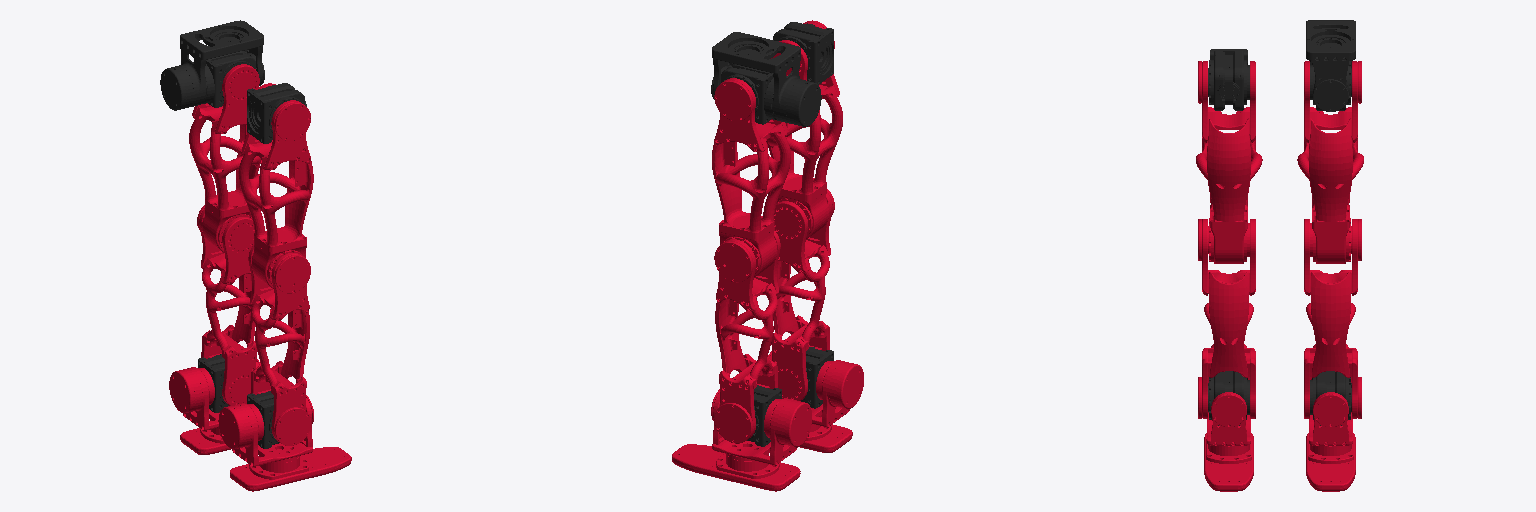
The robot description file, URDF, robot "red_robot":
<robot name="red_robot">
    <mujoco>
        <compiler meshdir="../meshes" balanceinertia="true"/>
    </mujoco>
  <link name="world"/>
  <link name="Pelvis_link">
    <inertial>
      <origin
        xyz="0.0119 0.0 0.328"
        rpy="0 0 0" />
      <mass
        value="52.5" />
      <inertia
        ixx="0.794"
        ixy="0.0"
        ixz="0.0"
        iyy="0.5657"
        iyz="0.0"
        izz="0.5955" />
    </inertial>
    <visual>
      <origin
        xyz="0 0 0"
        rpy="0 0 0" />
      <geometry>
        <mesh
          filename="package://dyros_red_lowerbody_description/meshes/Pelvis_link.stl" />
      </geometry>
      <material
        name="">
        <color
          rgba="0.20313 0.20313 0.20313 1" />
      </material>
    </visual>
    <collision>
      <origin
        xyz="0 0 0"
        rpy="0 0 0" />
      <geometry>
        <mesh
          filename="package://dyros_red_lowerbody_description/meshes/Pelvis_link.stl" />
      </geometry>
    </collision>
  </link>
    <joint name="virtual" type="floating"> 
        <parent link="world"/>
        <child link="Pelvis_link"/>    
</joint>
  <link
    name="HipRoll_L_Link">
    <inertial>
      <origin
        xyz="-0.06477 0 0.05149"
        rpy="0 0 0" />
      <mass
        value="2.679" />
      <inertia
        ixx="0.01821"
        ixy="-1.676E-07"
        ixz="-0.0007745"
        iyy="0.03121"
        iyz="-4.53E-09"
        izz="0.2928" />
    </inertial>
    <visual>
      <origin
        xyz="0 0 0"
        rpy="0 0 0" />
      <geometry>
        <mesh
          filename="package://dyros_red_lowerbody_description/meshes/HipRoll_L_Link.stl" />
      </geometry>
      <material
        name="">
        <color
          rgba="0.20313 0.20313 0.20313 1" />
      </material>
    </visual>
    <collision>
      <origin
        xyz="0 0 0"
        rpy="0 0 0" />
      <geometry>
        <mesh
          filename="package://dyros_red_lowerbody_description/meshes/HipRoll_L_Link.stl" />
      </geometry>
    </collision>
  </link>
  <joint
    name="HipRoll_L_Joint"
    type="revolute">
    <origin
      xyz="0 0.1025 -0.1225"
      rpy="0 0 0" />
    <parent
      link="Pelvis_link" />
    <child
      link="HipRoll_L_Link" />
    <axis
      xyz="0 0 1" />
    <limit effort="50" lower="-0.2618" upper="0.2618" velocity="1.045"/>
    <dynamics
      damping="10" />
  </joint>
  <link
    name="HipCenter_L_Link">
    <inertial>
      <origin
        xyz="-0.04801 0.0022 2E-05"
        rpy="0 0 0" />
      <mass
        value="2.67" />
      <inertia
        ixx="0.3553"
        ixy="1.725E-08"
        ixz="-3.236E-06"
        iyy="0.009161"
        iyz="-4.778E-06"
        izz="0.00876" />
    </inertial>
    <visual>
      <origin
        xyz="0 0 0"
        rpy="0 0 0" />
      <geometry>
        <mesh
          filename="package://dyros_red_lowerbody_description/meshes/HipCenter_L_Link.stl" />
      </geometry>
      <material
        name="">
        <color
          rgba="0.20313 0.20313 0.20313 1" />
      </material>
    </visual>
    <collision>
      <origin
        xyz="0 0 0"
        rpy="0 0 0" />
      <geometry>
        <mesh
          filename="package://dyros_red_lowerbody_description/meshes/HipCenter_L_Link.stl" />
      </geometry>
    </collision>

  </link>
  <joint
    name="HipCenter_L_Joint"
    type="revolute">
    <origin
      xyz="0 0 0"
      rpy="0 0 0" />
    <parent
      link="HipRoll_L_Link" />
    <child
      link="HipCenter_L_Link" />
    <axis
      xyz="1 0 0" />
    <limit effort="100" lower="-0.2618" upper="0.5236" velocity="2.09"/>
    <dynamics
      damping="10" />
  </joint>
  <link
    name="Thigh_L_Link">
    <inertial>
      <origin
        xyz="-0.00042 0.00032 -0.18904"
        rpy="0 0 0" />
      <mass
        value="5.366" />
      <inertia
        ixx="0.2987"
        ixy="-4.284E-05"
        ixz="-0.000196"
        iyy="0.7088"
        iyz="0.002406"
        izz="0.00982" />
    </inertial>
    <visual>
      <origin
        xyz="0 0 0"
        rpy="0 0 0" />
      <geometry>
        <mesh
          filename="package://dyros_red_lowerbody_description/meshes/Thigh_L_Link.stl" />
      </geometry>
      <material
        name="">
        <color
          rgba="0.85938 0.07813 0.23438 1" />
      </material>
    </visual>
    <collision>
      <origin
        xyz="0 0 0"
        rpy="0 0 0" />
      <geometry>
        <mesh
          filename="package://dyros_red_lowerbody_description/meshes/Thigh_L_Link.stl" />
      </geometry>
    </collision>
  </link>
  <joint
    name="Thigh_L_Joint"
    type="revolute">
    <origin
      xyz="0 0 0"
      rpy="0 0 0" />
    <parent
      link="HipCenter_L_Link" />
    <child
      link="Thigh_L_Link" />
    <axis
      xyz="0 1 0" />
    <limit effort="200" lower="-1.6581" upper="0.4014" velocity="2.09"/>
    <dynamics
      damping="10" />
  </joint>
  <link
    name="Knee_L_Link">
    <inertial>
      <origin
        xyz="0.00429 -0.00214 -0.1428"
        rpy="0 0 0" />
      <mass
        value="3.883" />
      <inertia
        ixx="0.1506"
        ixy="-2.887E-05"
        ixz="-0.002607"
        iyy="0.5588"
        iyz="-0.001486"
        izz="0.007451" />
    </inertial>
    <visual>
      <origin
        xyz="0 0 0"
        rpy="0 0 0" />
      <geometry>
        <mesh
          filename="package://dyros_red_lowerbody_description/meshes/Knee_L_Link.stl" />
      </geometry>
      <material
        name="">
        <color
          rgba="0.85938 0.07813 0.23438 1" />
      </material>
    </visual>
    <collision>
      <origin
        xyz="0 0 0"
        rpy="0 0 0" />
      <geometry>
        <mesh
          filename="package://dyros_red_lowerbody_description/meshes/Knee_L_Link.stl" />
      </geometry>
    </collision>
  </link>
  <joint
    name="Knee_L_Joint"
    type="revolute">
    <origin
      xyz="0 0 -0.35"
      rpy="0 0 0" />
    <parent
      link="Thigh_L_Link" />
    <child
      link="Knee_L_Link" />
    <axis
      xyz="0 1 0" />
    <limit effort="200" lower="-0.0218" upper="1.9722" velocity="6.0"/>
    <dynamics
      damping="10" />
  </joint>
  <link
    name="AnkleCenter_L_Link">
    <inertial>
      <origin
        xyz="-0.00419 0.0018 -0.0003"
        rpy="0 0 0" />
      <mass
        value="2.51" />
      <inertia
        ixx="0.002857"
        ixy="-1.422E-07"
        ixz="2.222E-06"
        iyy="0.4135"
        iyz="4.611E-06"
        izz="0.003345" />
    </inertial>
    <visual>
      <origin
        xyz="0 0 0"
        rpy="0 0 0" />
      <geometry>
        <mesh
          filename="package://dyros_red_lowerbody_description/meshes/AnkleCenter_L_Link.stl" />
      </geometry>
      <material
        name="">
        <color
          rgba="0.20313 0.20313 0.20313 1" />
      </material>
    </visual>
    <collision>
      <origin
        xyz="0 0 0"
        rpy="0 0 0" />
      <geometry>
        <mesh
          filename="package://dyros_red_lowerbody_description/meshes/AnkleCenter_L_Link.stl" />
      </geometry>
    </collision>
  </link>
  <joint
    name="AnkleCenter_L_Joint"
    type="revolute">
    <origin
      xyz="0 0 -0.35"
      rpy="0 0 0" />
    <parent
      link="Knee_L_Link" />
    <child
      link="AnkleCenter_L_Link" />
    <axis
      xyz="0 1 0" />
    <limit effort="200" lower="-1.5149" upper="1.7505" velocity="2.1"/>
    <dynamics
      damping="10" />
  </joint>
  <link
    name="AnkleRoll_L_Link">
    <inertial>
      <origin
        xyz="-0.00802 0 -0.08535"
        rpy="0 0 0" />
      <mass
        value="3.464" />
      <inertia
        ixx="0.1466"
        ixy="1.434E-05"
        ixz="-0.004731"
        iyy="0.05808"
        iyz="-2.508E-05"
        izz="0.0238" />
    </inertial>
    <visual>
      <origin
        xyz="0 0 0"
        rpy="0 0 0" />
      <geometry>
        <mesh
          filename="package://dyros_red_lowerbody_description/meshes/AnkleRoll_L_Link.stl" />
      </geometry>
      <material
        name="">
        <color
          rgba="0.85938 0.07813 0.23438 1" />
      </material>
    </visual>
    <collision>
      <origin
        xyz="0 0 0"
        rpy="0 0 0" />
      <geometry>
        <mesh filename="package://dyros_red_lowerbody_description/meshes/AnkleRoll_L_Link.stl"/>
      </geometry>
    </collision>
  </link>
  <joint
    name="AnkleRoll_L_Joint"
    type="revolute">
    <origin
      xyz="0 0 0"
      rpy="0 0 0" />
    <parent
      link="AnkleCenter_L_Link" />
    <child
      link="AnkleRoll_L_Link" />
    <axis
      xyz="1 0 0" />
    <limit effort="200" lower="-0.3491" upper="0.3491" velocity="2.1"/>
    <dynamics
      damping="10" />
  </joint>
  <joint name="LLeg_effector_fixedjoint" type="fixed">
    <parent link="AnkleRoll_L_Link"/>
    <child link="l_sole"/>
    <origin rpy="0 0 0" xyz="0 0 -0.1451"/>
    <axis xyz="0 0 0"/>
  </joint>
  <link name="l_sole"/>
  <link
    name="HipRoll_R_link">
    <inertial>
      <origin
        xyz="-0.06477 0 0.05149"
        rpy="0 0 0" />
      <mass
        value="2.679" />
      <inertia
        ixx="0.01821"
        ixy="-1.676E-07"
        ixz="-0.0007745"
        iyy="0.03121"
        iyz="-4.53E-09"
        izz="0.2928" />
    </inertial>
    <visual>
      <origin
        xyz="0 0 0"
        rpy="0 0 0" />
      <geometry>
        <mesh
          filename="package://dyros_red_lowerbody_description/meshes/HipRoll_R_link.stl" />
      </geometry>
      <material
        name="">
        <color
          rgba="0.20313 0.20313 0.20313 1" />
      </material>
    </visual>
    <collision>
      <origin
        xyz="0 0 0"
        rpy="0 0 0" />
      <geometry>
        <mesh
          filename="package://dyros_red_lowerbody_description/meshes/HipRoll_R_link.stl" />
      </geometry>
    </collision>
  </link>
  <joint
    name="HipRoll_R_Joint"
    type="revolute">
    <origin
      xyz="0 -0.1025 -0.1225"
      rpy="0 0 0" />
    <parent
      link="Pelvis_link" />
    <child
      link="HipRoll_R_link" />
    <axis
      xyz="0 0 1" />
    <limit effort="50.0" lower="-0.2618" upper="0.2618" velocity="1.045"/>
    <dynamics
      damping="10" />
  </joint>
  <link
    name="HipCenter_R_Link">
    <inertial>
      <origin
        xyz="-0.04801 -0.0022 2E-05"
        rpy="0 0 0" />
      <mass
        value="2.67" />
      <inertia
        ixx="0.3553"
        ixy="1.725E-08"
        ixz="-3.236E-06"
        iyy="0.009161"
        iyz="-4.778E-06"
        izz="0.00876" />
    </inertial>
    <visual>
      <origin
        xyz="0 0 0"
        rpy="0 0 0" />
      <geometry>
        <mesh
          filename="package://dyros_red_lowerbody_description/meshes/HipCenter_R_Link.stl" />
      </geometry>
      <material
        name="">
        <color
          rgba="0.20313 0.20313 0.20313 1" />
      </material>
    </visual>
    <collision>
      <origin
        xyz="0 0 0"
        rpy="0 0 0" />
      <geometry>
        <mesh
          filename="package://dyros_red_lowerbody_description/meshes/HipCenter_R_Link.stl" />
      </geometry>
    </collision>
  </link>
  <joint
    name="HipCenter_R_Joint"
    type="revolute">
    <origin
      xyz="0 0 0"
      rpy="0 0 0" />
    <parent
      link="HipRoll_R_link" />
    <child
      link="HipCenter_R_Link" />
    <axis
      xyz="1 0 0" />
    <limit effort="200" lower="-0.5236" upper="0.2618" velocity="2.09"/>
    <dynamics
      damping="10" />
  </joint>
  <link
    name="Thigh_R_Link">
    <inertial>
      <origin
        xyz="-0.00042 -0.00032 -0.18904"
        rpy="0 0 0" />
      <mass
        value="5.366" />
      <inertia
        ixx="0.2987"
        ixy="-4.284E-05"
        ixz="-0.000196"
        iyy="0.7088"
        iyz="0.002406"
        izz="0.00982" />
    </inertial>
    <visual>
      <origin
        xyz="0 0 0"
        rpy="0 0 0" />
      <geometry>
        <mesh
          filename="package://dyros_red_lowerbody_description/meshes/Thigh_R_Link.stl" />
      </geometry>
      <material
        name="">
        <color
          rgba="0.85938 0.07813 0.23438 1" />
      </material>
    </visual>

    <collision>
      <origin
        xyz="0 0 0"
        rpy="0 0 0" />
      <geometry>
        <mesh
          filename="package://dyros_red_lowerbody_description/meshes/Thigh_R_Link.stl" />
      </geometry>
    </collision>
  </link>
  <joint
    name="Thigh_R_Joint"
    type="revolute">
    <origin
      xyz="0 0 0"
      rpy="0 0 0" />
    <parent
      link="HipCenter_R_Link" />
    <child
      link="Thigh_R_Link" />
    <axis
      xyz="0 1 0" />
    <limit effort="200" lower="-1.6581" upper="0.4014" velocity="2.09"/>
    <dynamics
      damping="10" />
  </joint>
  <link
    name="Knee_R_Link">
    <inertial>
      <origin
        xyz="0.00429 0.00214 -0.1428"
        rpy="0 0 0" />
      <mass
        value="3.883" />
      <inertia
        ixx="0.1506"
        ixy="-2.887E-05"
        ixz="-0.002607"
        iyy="0.5588"
        iyz="-0.001486"
        izz="0.007451" />
    </inertial>
    <visual>
      <origin
        xyz="0 0 0"
        rpy="0 0 0" />
      <geometry>
        <mesh
          filename="package://dyros_red_lowerbody_description/meshes/Knee_R_Link.stl" />
      </geometry>
      <material
        name="">
        <color
          rgba="0.85938 0.07813 0.23438 1" />
      </material>
    </visual>
    <collision>
      <origin
        xyz="0 0 0"
        rpy="0 0 0" />
      <geometry>
        <mesh
          filename="package://dyros_red_lowerbody_description/meshes/Knee_R_Link.stl" />
      </geometry>
    </collision>
  </link>
  <joint
    name="Knee_R_Joint"
    type="revolute">
    <origin
      xyz="0 0 -0.35"
      rpy="0 0 0" />
    <parent
      link="Thigh_R_Link" />
    <child
      link="Knee_R_Link" />
    <axis
      xyz="0 1 0" />
    <limit effort="200" lower="-0.0218" upper="1.9722" velocity="6.0"/>
    <dynamics
      damping="10" />
  </joint>
  <link
    name="AnkleCenter_R_Link">
    <inertial>
      <origin
        xyz="-0.00419 -0.0018 -0.0003"
        rpy="0 0 0" />
      <mass
        value="2.51" />
      <inertia
        ixx="0.002857"
        ixy="-1.422E-07"
        ixz="2.222E-06"
        iyy="0.4135"
        iyz="4.611E-06"
        izz="0.003345" />
    </inertial>
    <visual>
      <origin
        xyz="0 0 0"
        rpy="0 0 0" />
      <geometry>
        <mesh
          filename="package://dyros_red_lowerbody_description/meshes/AnkleCenter_R_Link.stl" />
      </geometry>
      <material
        name="">
        <color
          rgba="0.20313 0.20313 0.20313 1" />
      </material>
    </visual>
    <collision>
      <origin
        xyz="0 0 0"
        rpy="0 0 0" />
      <geometry>
        <mesh
          filename="package://dyros_red_lowerbody_description/meshes/AnkleCenter_R_Link.stl" />
      </geometry>
    </collision>
  </link>
  <joint
    name="AnkleCenter_R_Joint"
    type="revolute">
    <origin
      xyz="0 0 -0.35"
      rpy="0 0 0" />
    <parent
      link="Knee_R_Link" />
    <child
      link="AnkleCenter_R_Link" />
    <axis
      xyz="0 1 0" />
    <limit effort="200" lower="-1.5149" upper="1.7505" velocity="2.1"/>
    <dynamics
      damping="10" />
  </joint>
  <link
    name="AnkleRoll_R_Link">
    <inertial>
      <origin
        xyz="-0.00802 0 -0.08535"
        rpy="0 0 0" />
      <mass
        value="3.464" />
      <inertia
        ixx="0.1466"
        ixy="1.434E-05"
        ixz="-0.004731"
        iyy="0.05808"
        iyz="-2.508E-05"
        izz="0.0238" />
    </inertial>
    <visual>
      <origin
        xyz="0 0 0"
        rpy="0 0 0" />
      <geometry>
        <mesh
          filename="package://dyros_red_lowerbody_description/meshes/AnkleRoll_R_Link.stl" />
      </geometry>
      <material
        name="">
        <color
          rgba="0.85938 0.07813 0.23438 1" />
      </material>
    </visual>
    <collision>
      <origin
        xyz="0 0 0"
        rpy="0 0 0" />
      <geometry>
        <mesh filename="package://dyros_red_lowerbody_description/meshes/AnkleRoll_R_Link.stl" scale="1 1 1"/>
      </geometry>
    </collision>
  </link>
  <joint
    name="AnkleRoll_R_Joint"
    type="revolute">
    <origin
      xyz="0 0 0"
      rpy="0 0 0" />
    <parent
      link="AnkleCenter_R_Link" />
    <child
      link="AnkleRoll_R_Link" />
    <axis
      xyz="1 0 0" />
    <limit effort="200" lower="-0.3491" upper="0.3491" velocity="2.1"/>
    <dynamics
      damping="10" />
  </joint>
  <joint name="RLeg_effector_fixedjoint" type="fixed">
    <parent link="AnkleRoll_R_Link"/>
    <child link="r_sole"/>
    <origin rpy="0 0 0" xyz="0 0 -0.1451"/>
    <axis xyz="0 0 0"/>
  </joint>
  <link name="r_sole"/>
</robot>

--- What the picture shows (computed from the rendered views, not written in the file) ---
Views: 3 orthographic renders of the robot side by side, from view 1: azimuth 30°, elevation 25°; view 2: azimuth 150°, elevation 25°; view 3: azimuth 270°, elevation 25°.
Model red_robot with 16 links and 15 joints (12 revolute, 2 fixed, 1 floating), rooted at world, posed every joint at zero.
Links seen in each view (by area): view 1: Thigh_R_Link, Knee_R_Link, Knee_L_Link, Thigh_L_Link, AnkleRoll_R_Link, HipRoll_L_Link, AnkleRoll_L_Link, HipCenter_R_Link, HipCenter_L_Link, AnkleCenter_R_Link, AnkleCenter_L_Link; view 2: Thigh_L_Link, Knee_L_Link, Knee_R_Link, AnkleRoll_L_Link, HipRoll_L_Link, Thigh_R_Link, AnkleRoll_R_Link, HipCenter_R_Link, HipCenter_L_Link, AnkleCenter_L_Link, AnkleCenter_R_Link; view 3: Thigh_L_Link, Thigh_R_Link, Knee_R_Link, Knee_L_Link, AnkleRoll_L_Link, AnkleRoll_R_Link, HipRoll_L_Link, HipCenter_R_Link, AnkleCenter_L_Link, AnkleCenter_R_Link.
Link boxes in pixels (x1=…): Thigh_R_Link: x1=238, y1=83, x2=313, y2=288; Knee_R_Link: x1=248, y1=245, x2=310, y2=445; Knee_L_Link: x1=197, y1=205, x2=256, y2=405; Thigh_L_Link: x1=189, y1=64, x2=260, y2=252; AnkleRoll_R_Link: x1=218, y1=395, x2=351, y2=491; HipRoll_L_Link: x1=160, y1=20, x2=264, y2=110; AnkleRoll_L_Link: x1=169, y1=359, x2=260, y2=454; HipCenter_R_Link: x1=247, y1=83, x2=306, y2=143; HipCenter_L_Link: x1=206, y1=51, x2=255, y2=107; AnkleCenter_R_Link: x1=247, y1=391, x2=279, y2=448; AnkleCenter_L_Link: x1=198, y1=354, x2=228, y2=412; Thigh_L_Link: x1=712, y1=78, x2=790, y2=276; Knee_L_Link: x1=714, y1=231, x2=780, y2=443; Knee_R_Link: x1=771, y1=189, x2=834, y2=400; AnkleRoll_L_Link: x1=672, y1=389, x2=811, y2=491; HipRoll_L_Link: x1=711, y1=32, x2=821, y2=126; Thigh_R_Link: x1=767, y1=20, x2=842, y2=238; AnkleRoll_R_Link: x1=767, y1=351, x2=863, y2=452; HipCenter_R_Link: x1=773, y1=22, x2=833, y2=84; HipCenter_L_Link: x1=721, y1=64, x2=773, y2=124; AnkleCenter_L_Link: x1=747, y1=385, x2=781, y2=446; AnkleCenter_R_Link: x1=801, y1=347, x2=833, y2=408; Thigh_L_Link: x1=1297, y1=61, x2=1363, y2=263; Thigh_R_Link: x1=1196, y1=61, x2=1262, y2=263; Knee_R_Link: x1=1198, y1=219, x2=1255, y2=418; Knee_L_Link: x1=1304, y1=219, x2=1361, y2=418; AnkleRoll_L_Link: x1=1306, y1=377, x2=1355, y2=491; AnkleRoll_R_Link: x1=1204, y1=377, x2=1253, y2=491; HipRoll_L_Link: x1=1306, y1=20, x2=1355, y2=111; HipCenter_R_Link: x1=1208, y1=49, x2=1249, y2=110; AnkleCenter_L_Link: x1=1310, y1=371, x2=1351, y2=425; AnkleCenter_R_Link: x1=1208, y1=371, x2=1249, y2=425.
Bounding box of the posed robot: 0.3028 × 0.34 × 0.9318 m (x, y, z).
11 mesh visuals loaded from 13 distinct referenced files (11 binary STL); not drawn: 2 (reference not matched to a file when rendering).
